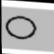no answer: (4, 12, 37, 41)
